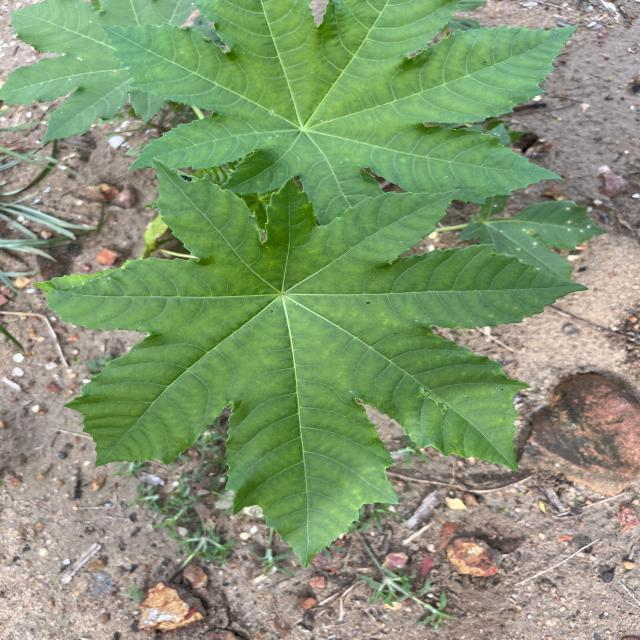Ricinus communis linn: (26, 152, 593, 571), (92, 0, 583, 228)
